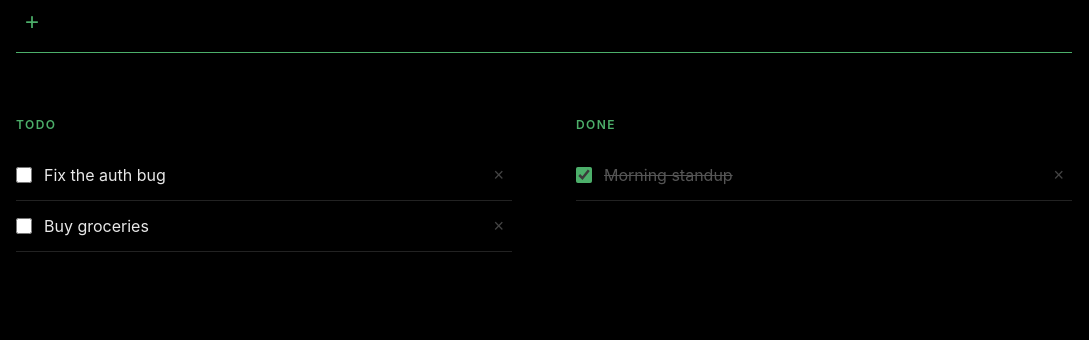
completing and deleting a todo › reverts a failed delete without undoing a todo mutated meanwhile
expect the list named "TODO" is shown: met, box left=16, top=150, right=512, bottom=252
Click the button named "Delete": click(499, 175) left=486, top=162, right=512, bottom=188
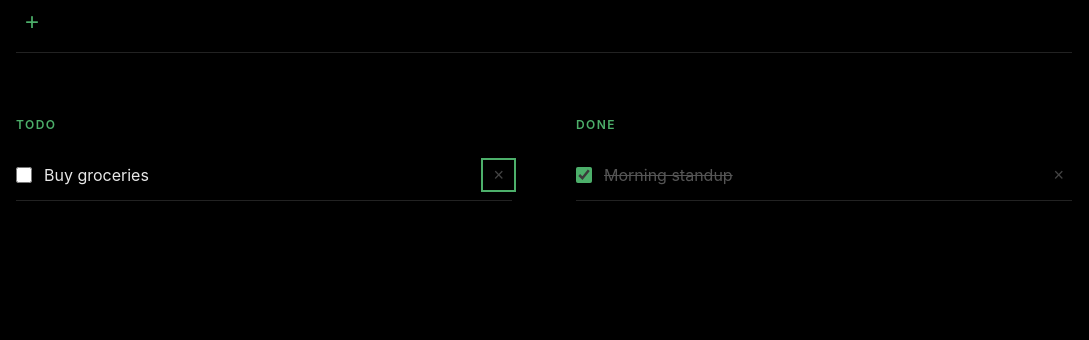
Click the checkbox named "Mark complete": click(24, 175) left=16, top=167, right=32, bottom=183
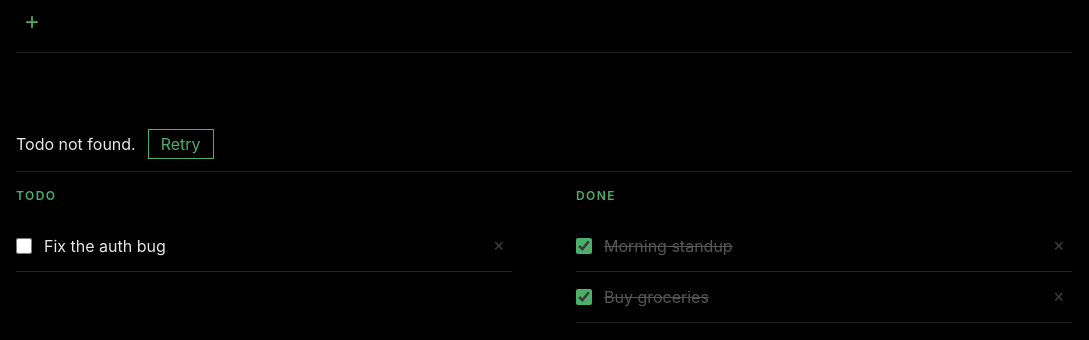
expect the message shows "Todo not found.": met, box left=16, top=134, right=136, bottom=154
